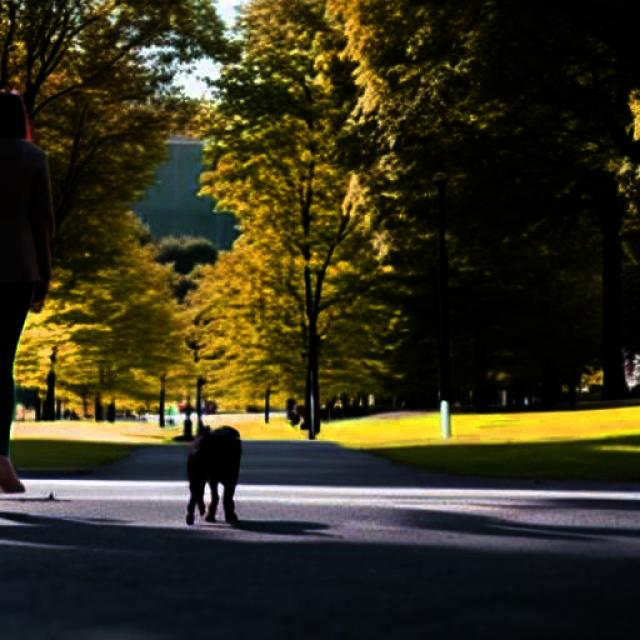Unleashed_Dog: (0, 284, 241, 525)
